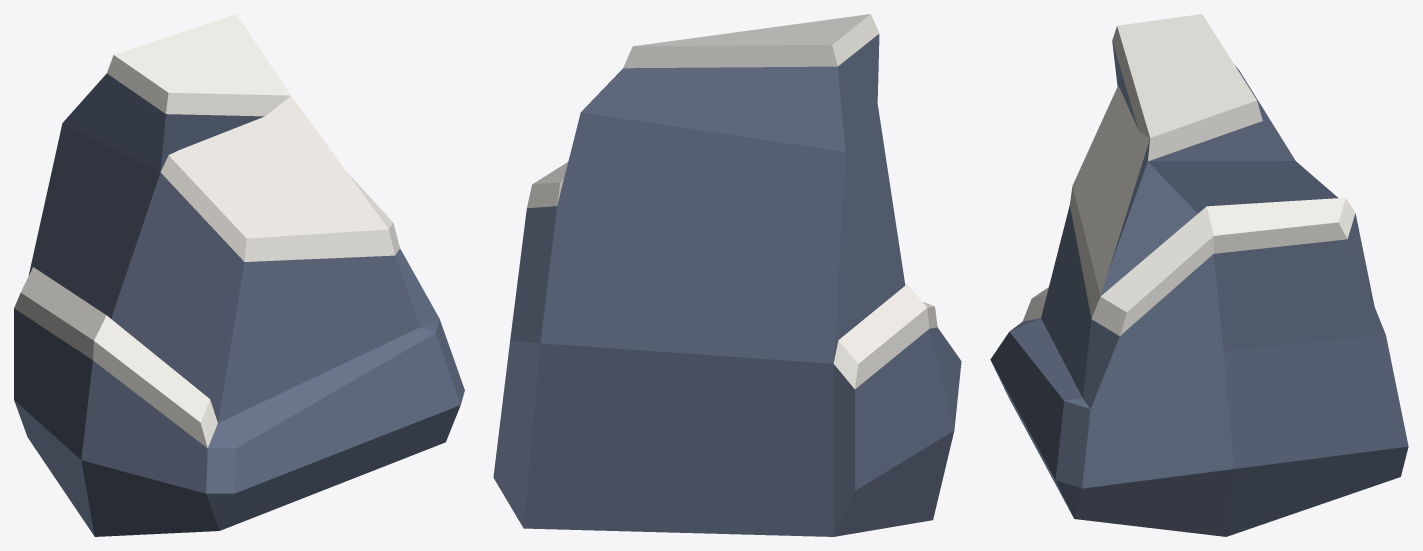
The model's file is Rock_Snow_2.glb.
3 renders of one model, left to right at view 1: azimuth 30°, elevation 25°; view 2: azimuth 150°, elevation 25°; view 3: azimuth 270°, elevation 25°, orthographic. The views are drawn at different scales.
Visible parts, largest first — view 1: Rock_Snow_2; view 2: Rock_Snow_2; view 3: Rock_Snow_2.
Boxes of the visible parts, x1,y1,x2,y2 form: Rock_Snow_2: (14,14,464,536); Rock_Snow_2: (493,14,961,536); Rock_Snow_2: (990,14,1408,536).
Bounding box in the file's own units: 0.6125 × 0.7205 × 0.6504.
